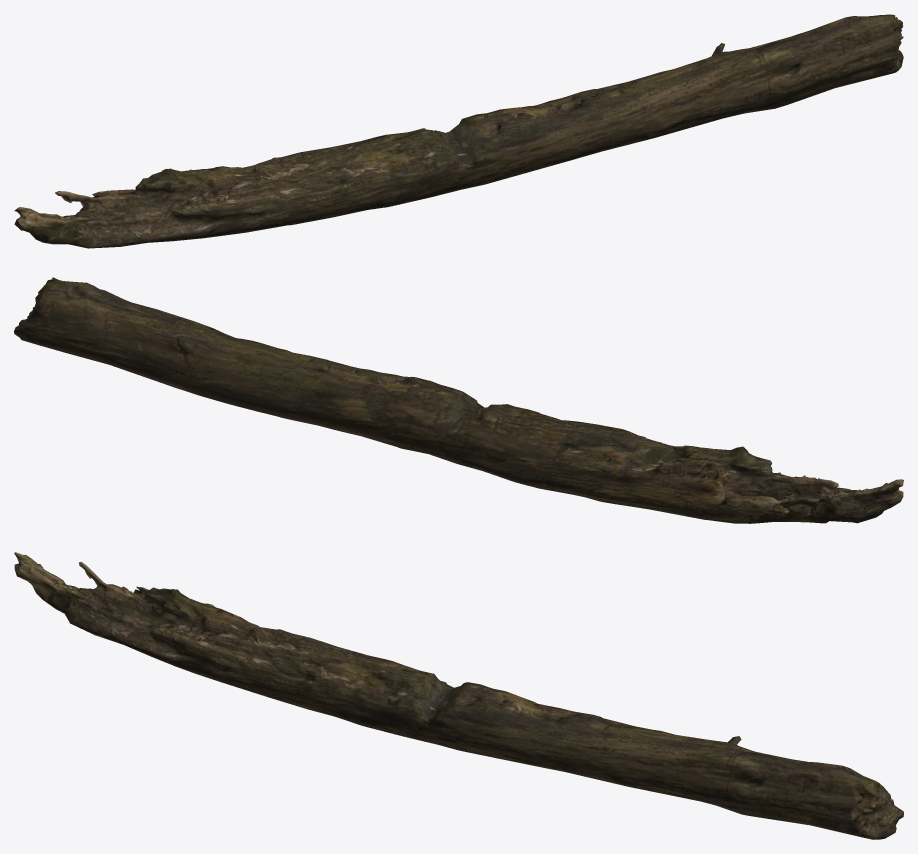
File: dead_tree_trunk.glb
3 renders of one model, top to bottom at view 1: azimuth 30°, elevation 25°; view 2: azimuth 150°, elevation 25°; view 3: azimuth 330°, elevation 25°, orthographic.
Visible parts, largest first — view 1: dead_tree_trunk; view 2: dead_tree_trunk; view 3: dead_tree_trunk.
Boxes of the visible parts, x1,y1,x2,y2 form: dead_tree_trunk: [14, 14, 903, 248]; dead_tree_trunk: [14, 277, 903, 523]; dead_tree_trunk: [14, 552, 903, 839].
Size of the model in its own units: 3.05 by 0.2904 by 0.2773.
1 material, 1 textured.
